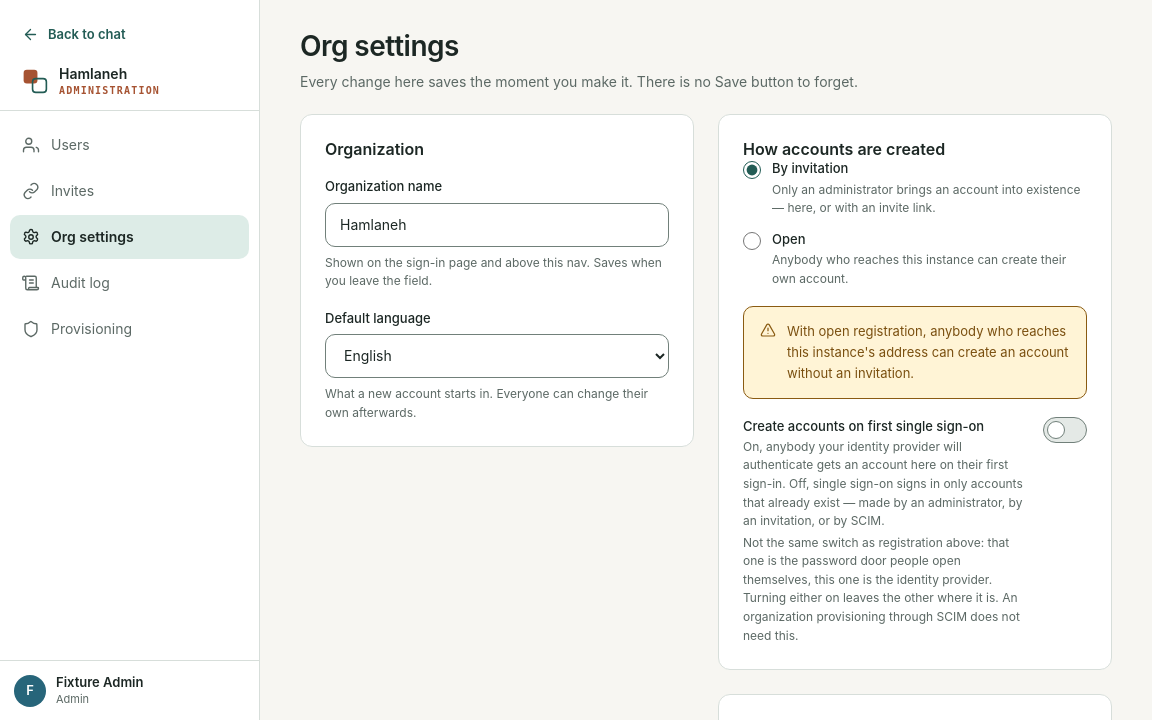
Scenario: just-in-time provisioning › says a refused save did not happen and puts the switch back
Step 1. Click the switch named "Create accounts on first single sign-on" → coordinates (1065, 430), box [1043, 416, 1087, 442]
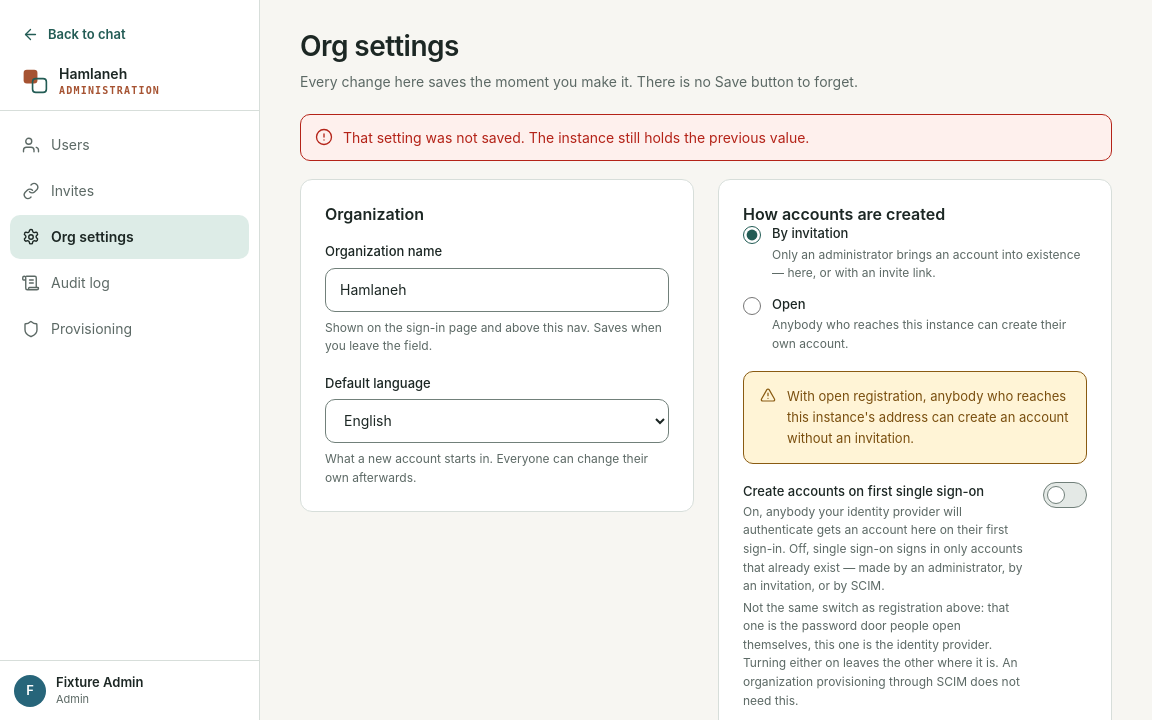
Expected: the text "That setting was not saved. The instance still holds the previous value." is shown, [343, 127, 809, 148]
